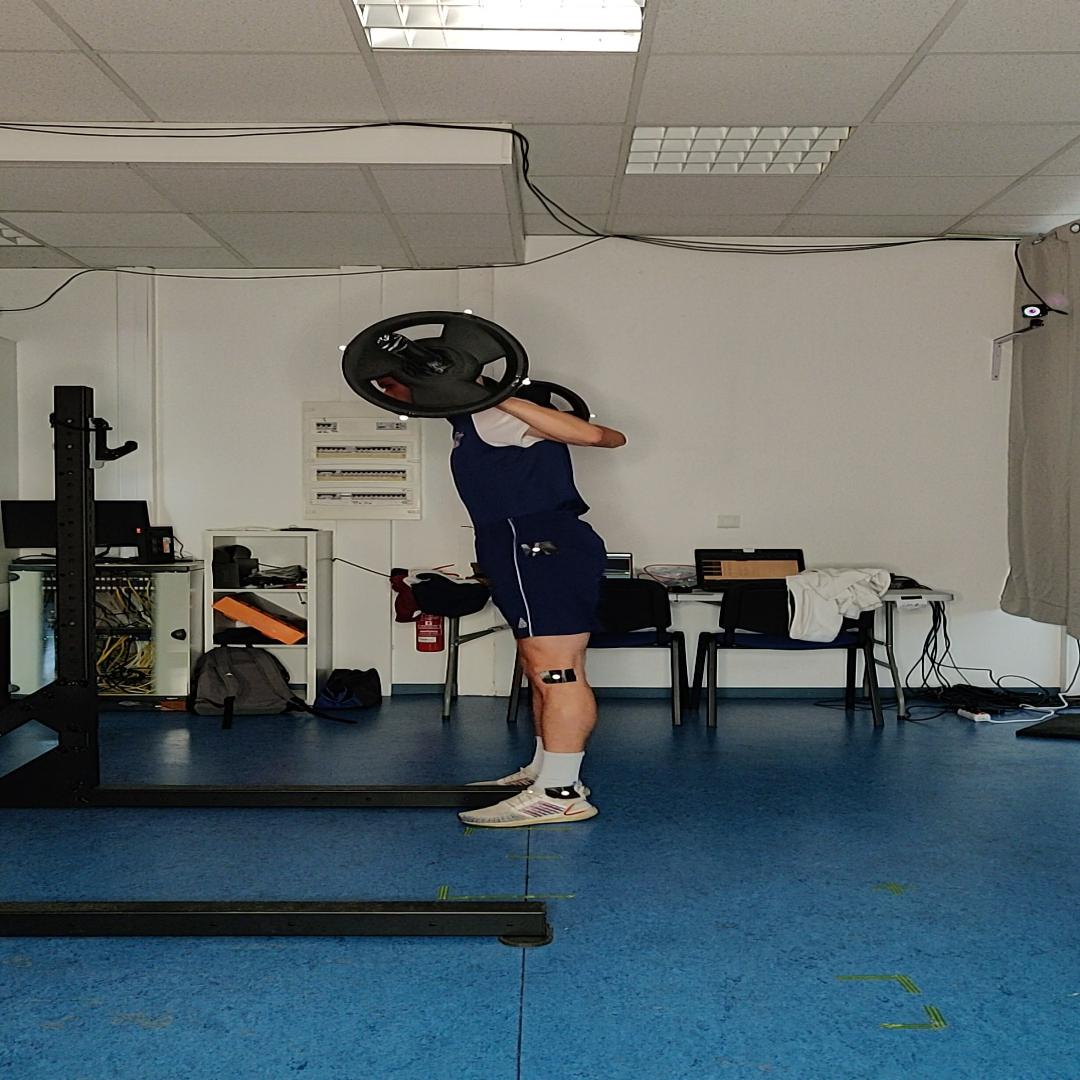Bar: (377, 333, 410, 353)
Barbell: (342, 311, 530, 418)
